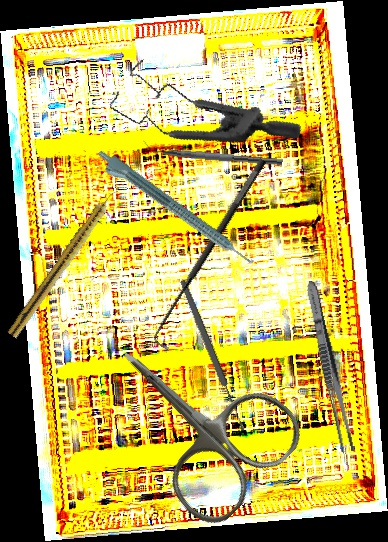Chopper: (141, 139, 284, 166)
Dressing Forceps: (301, 279, 358, 454)
Handpiece: (90, 146, 257, 276), (6, 185, 123, 341)
Hook Surgical: (144, 156, 281, 352)
Iris Scissors: (77, 301, 312, 535)
Speculum: (97, 19, 304, 191)
Surgical Spoon: (177, 278, 248, 433)
